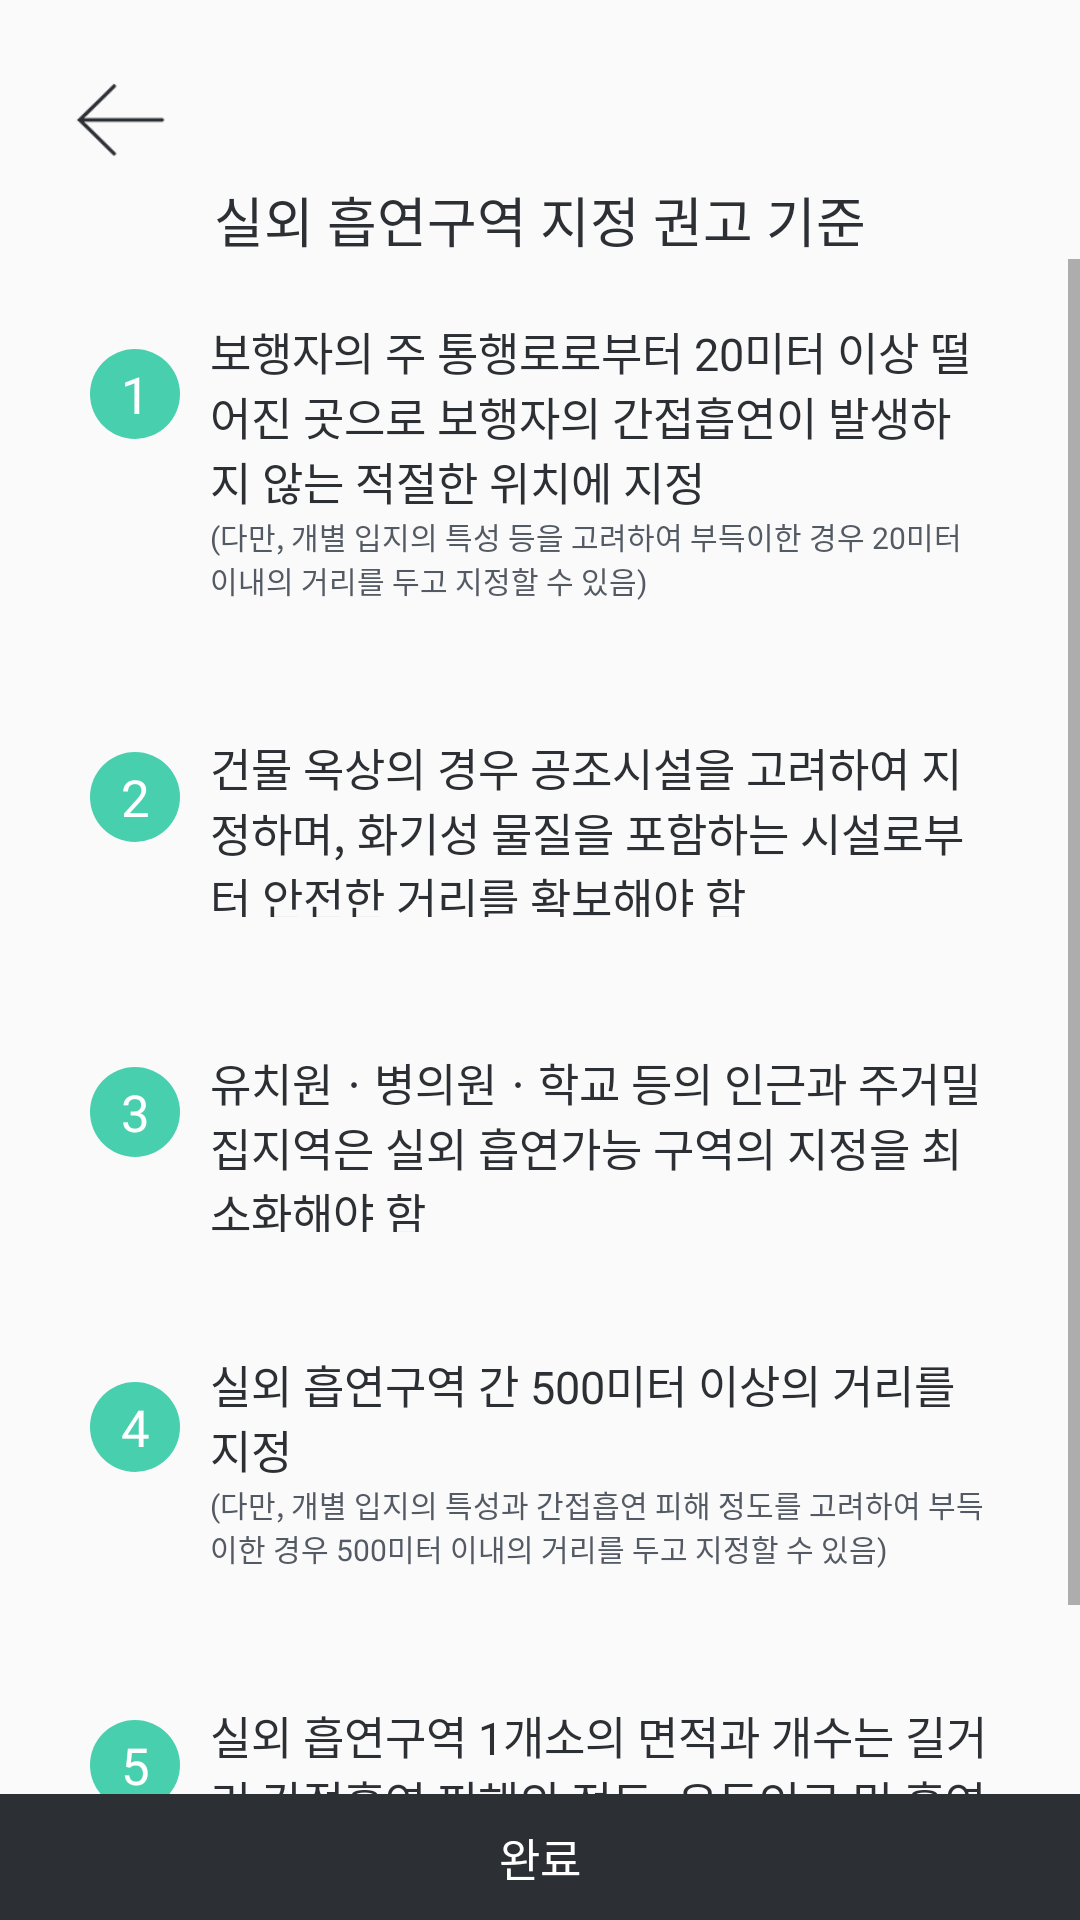

Named icons in this screenshot (1080px×1920px) and their bounding boxes, (x1, y1, x2, y2):
back arrow: (77, 84, 165, 156)
